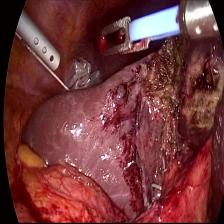Bipolar: (98, 0, 219, 67)
Irrigator: (20, 12, 63, 75)
Specimen Bag: (60, 44, 104, 110)
